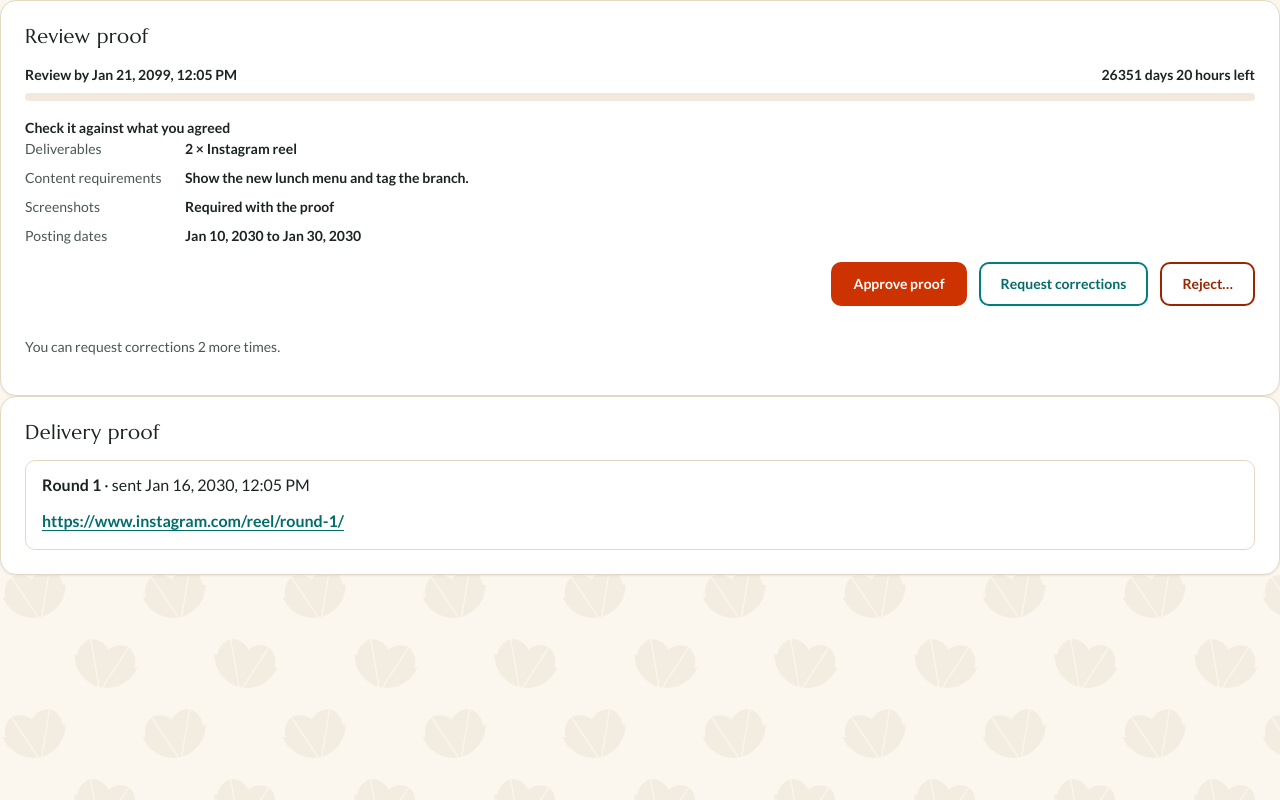
asks for corrections with an optional note, then waits for the new version
The width and height of the screenshot is (1280, 800).
Click the button "Request corrections" at point(1064, 284), box [979,262,1148,306]
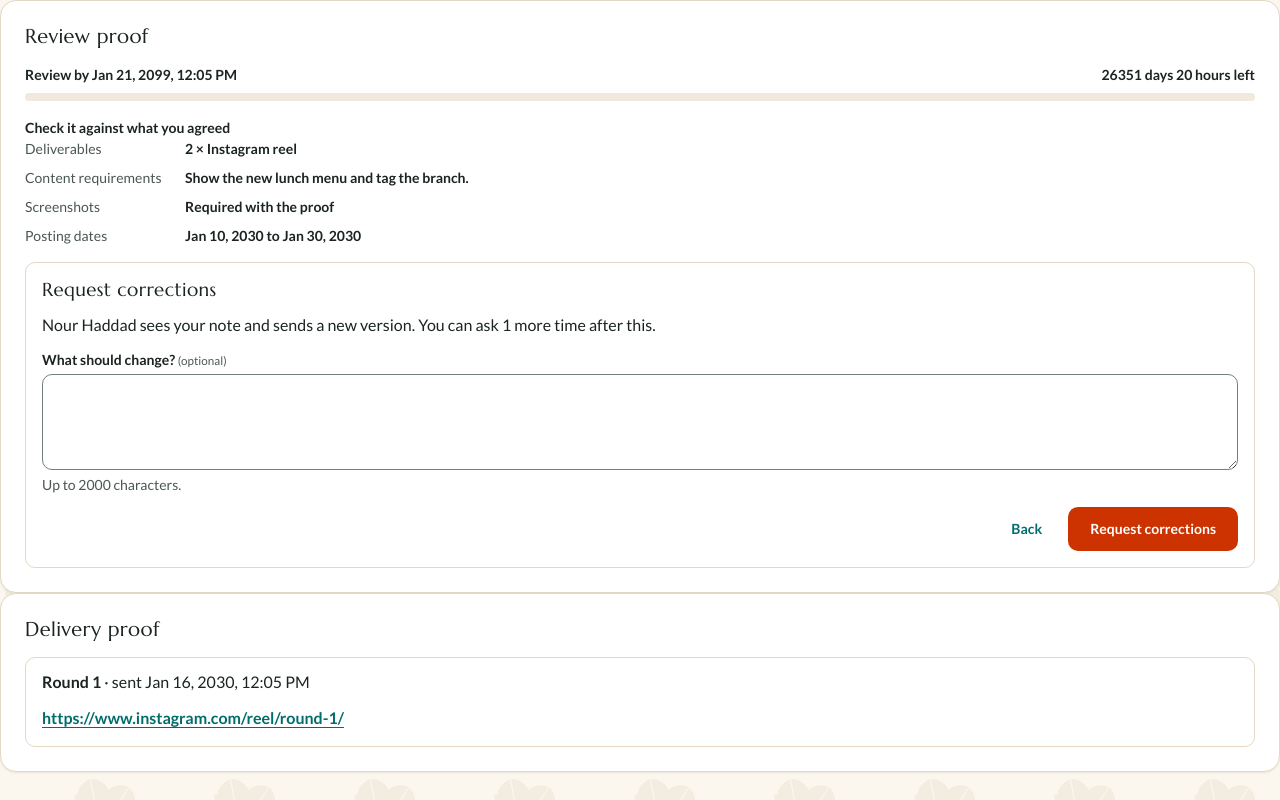
Now the text "You can ask 1 more time after this" is shown, box [415,314,656,334]
Click the button "Request corrections" at point(1153, 528), box [1068,506,1238,550]
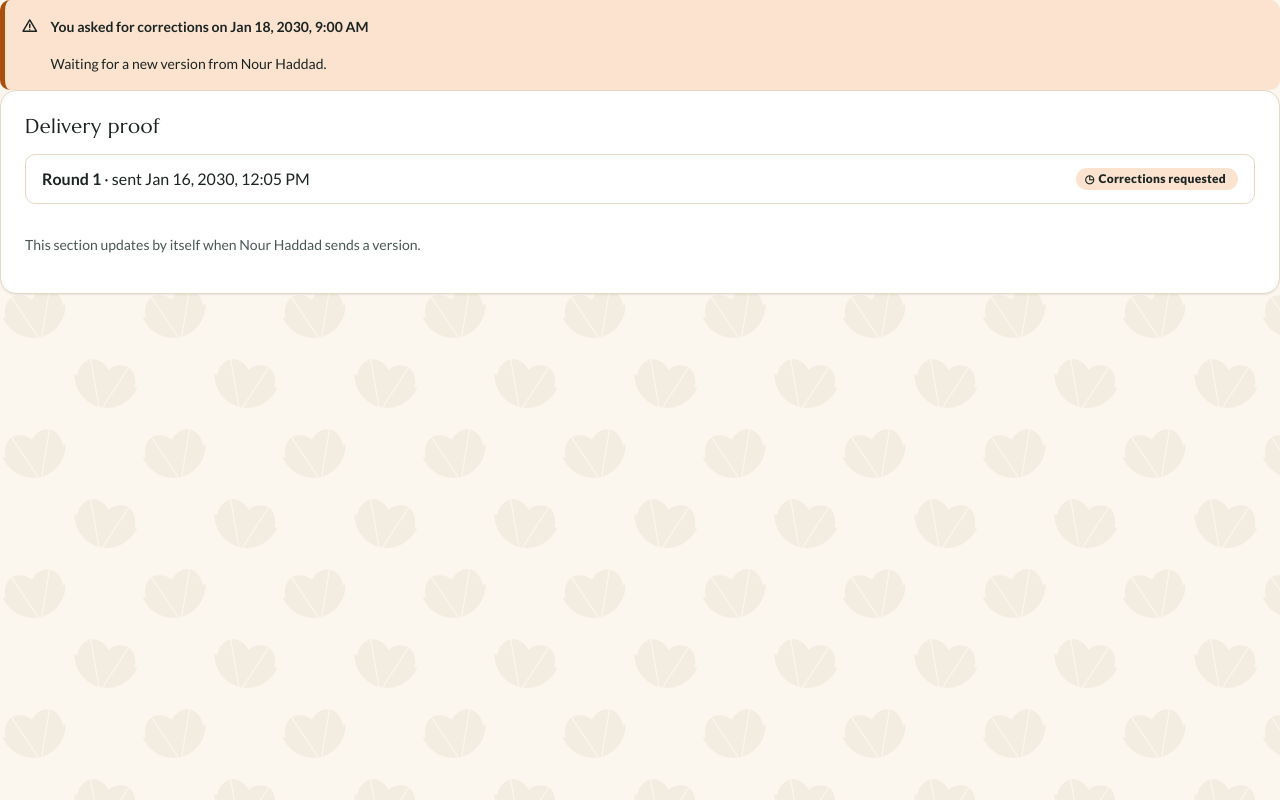
Now the text "Waiting for a new version from Nour Haddad." is shown, box [50,53,368,74]
